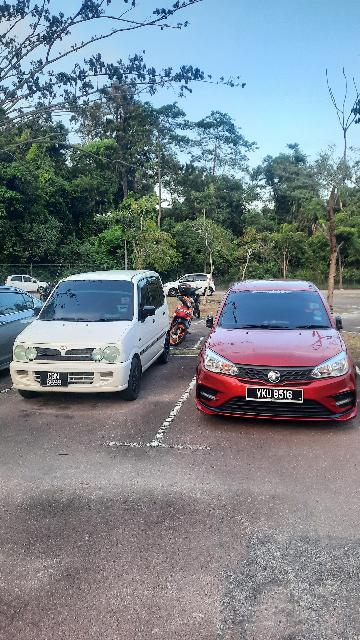License_Plate: (245, 383, 307, 407), (43, 370, 73, 393)
car: (195, 279, 360, 432), (10, 270, 172, 407)
